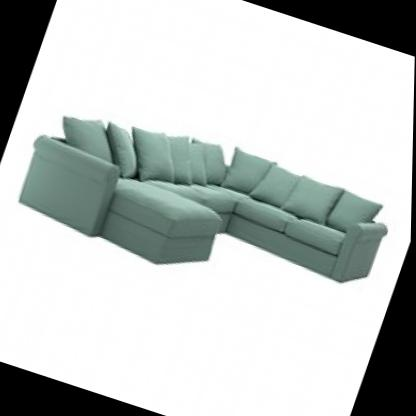Sofa: (0, 74, 407, 334)
